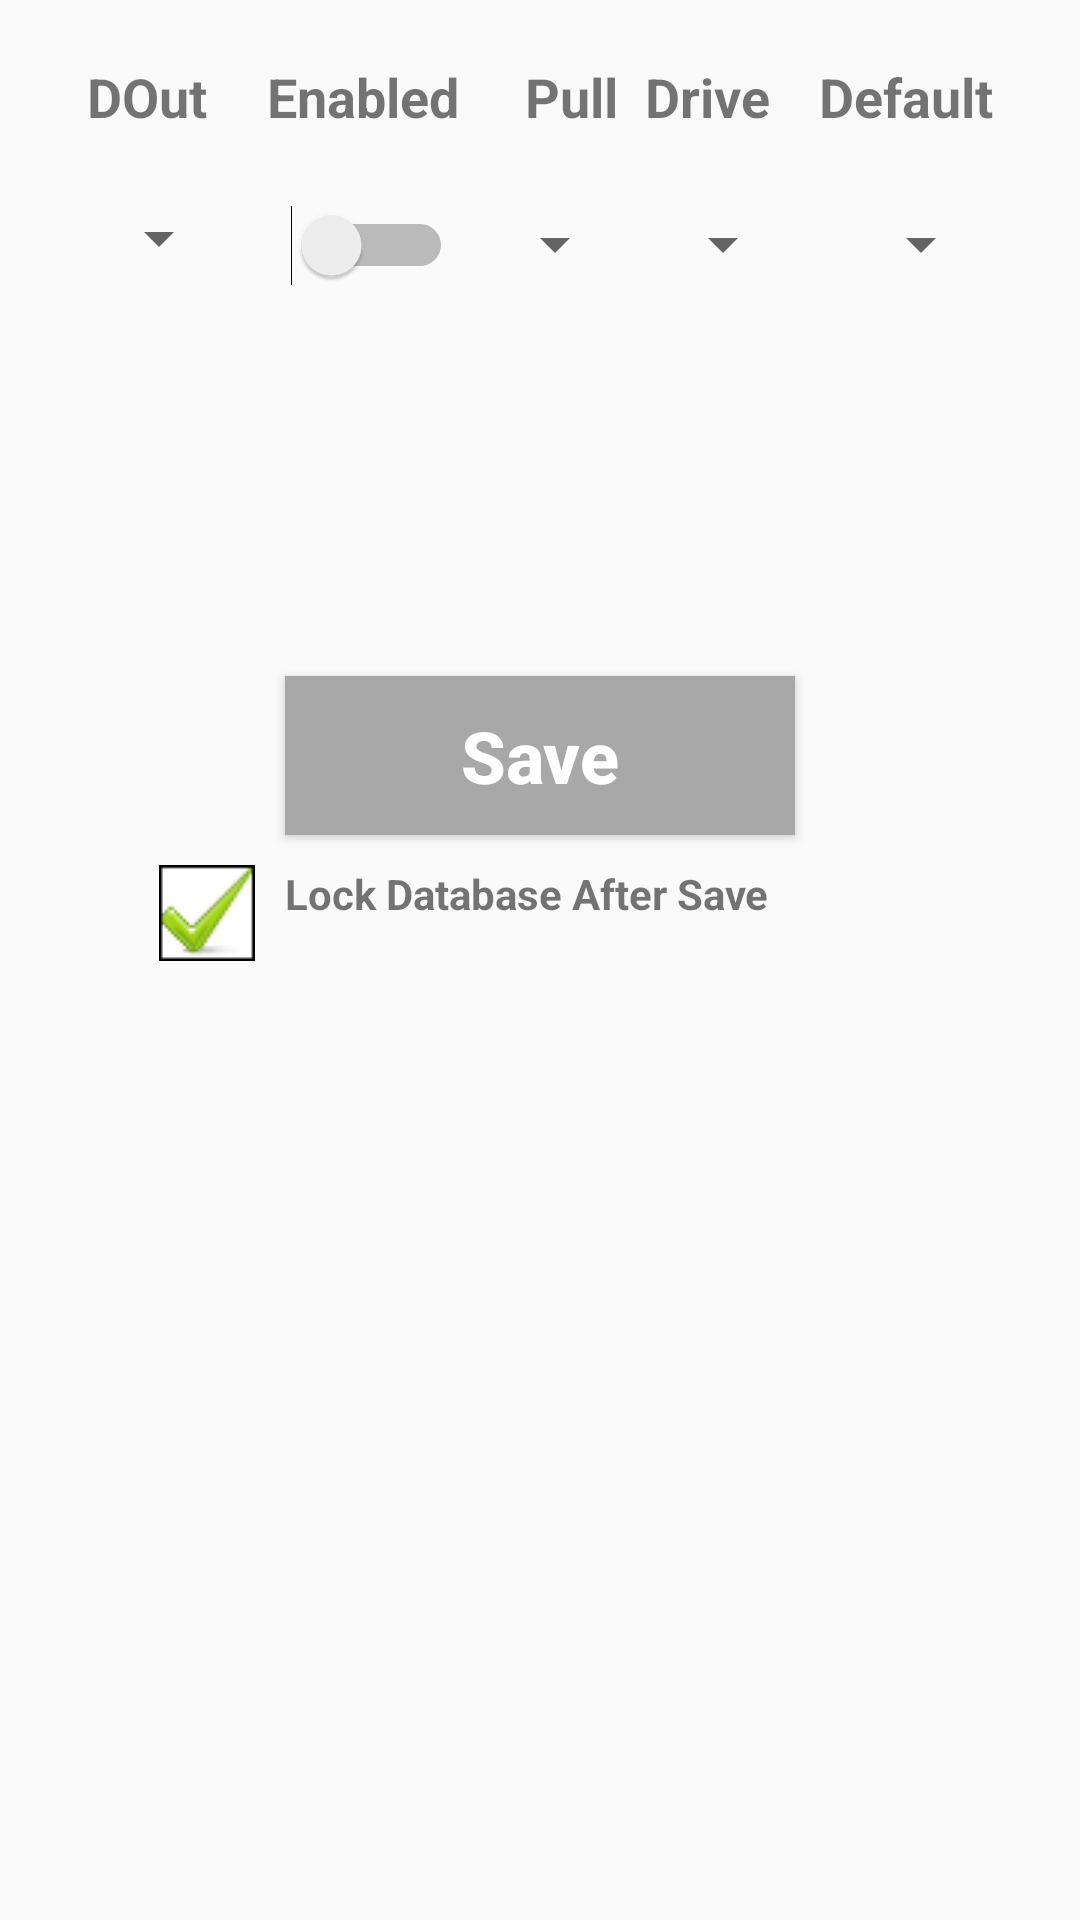

Where icons sit on this 1080×1920 app screen, as rect(x1, y1, x2, y2):
ticked: rect(159, 865, 255, 961)
